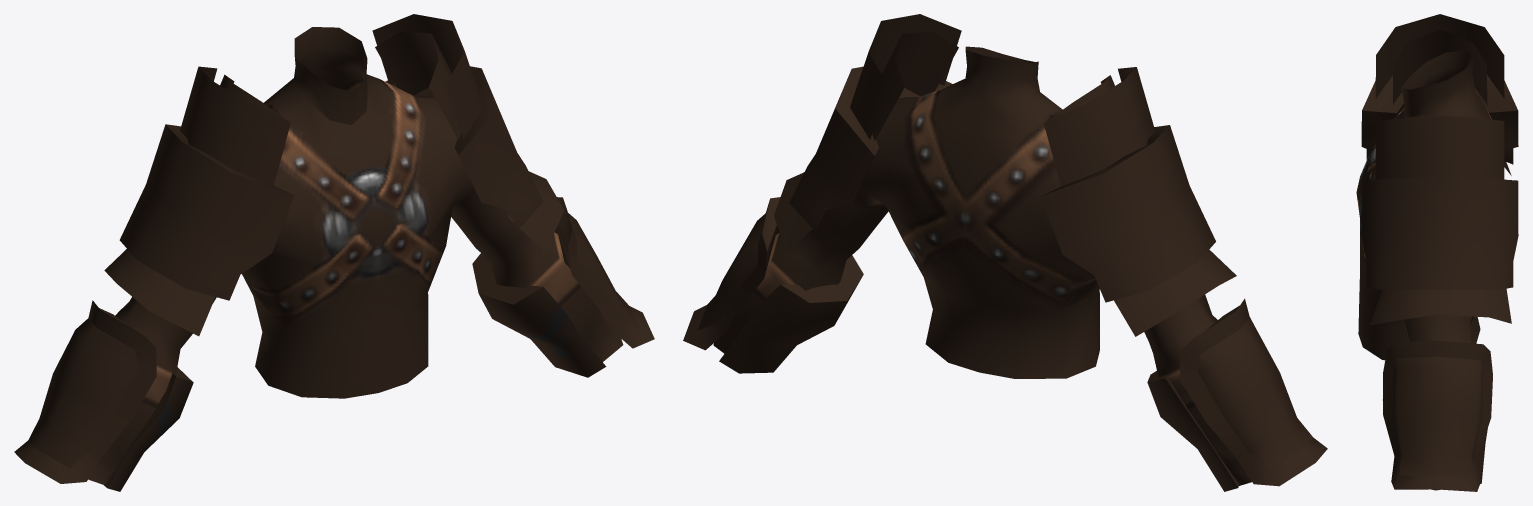
File: hum_berserker_02_764aa144.glb
3 renders of one model, left to right at view 1: azimuth 30°, elevation 25°; view 2: azimuth 150°, elevation 25°; view 3: azimuth 270°, elevation 25°, orthographic. The views are drawn at different scales.
Size of the model in its own units: 1.67 by 0.9901 by 0.4359.
Materials: 1 (1 with a texture image).
